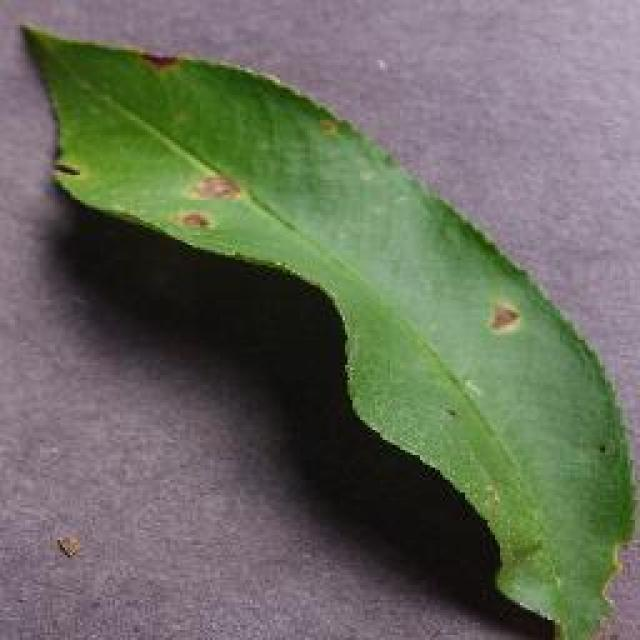Peach_Bacterial_Spot: (152, 35, 305, 285)
